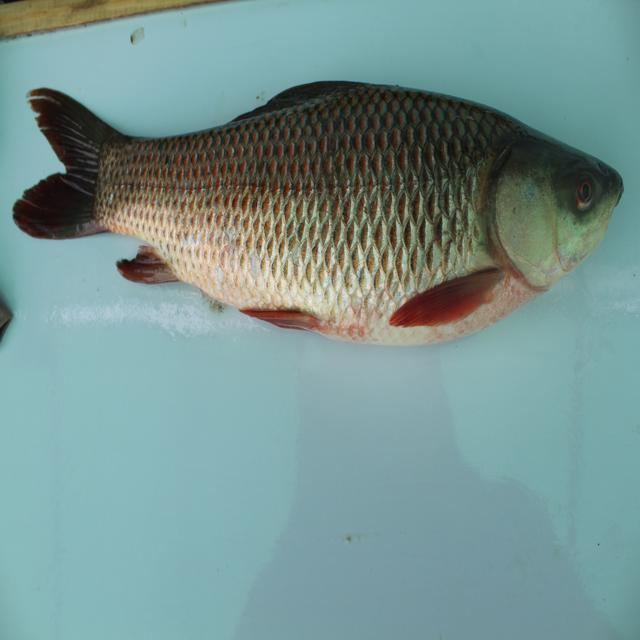Rohu: (16, 73, 633, 352)
